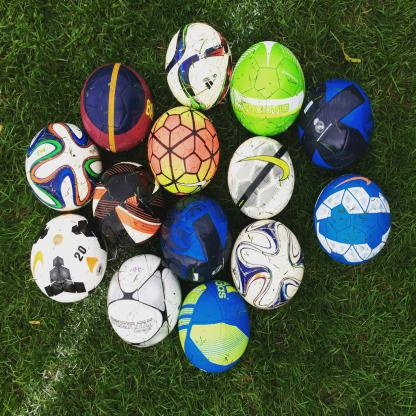Ball: (29, 23, 392, 374), (164, 20, 231, 114)
